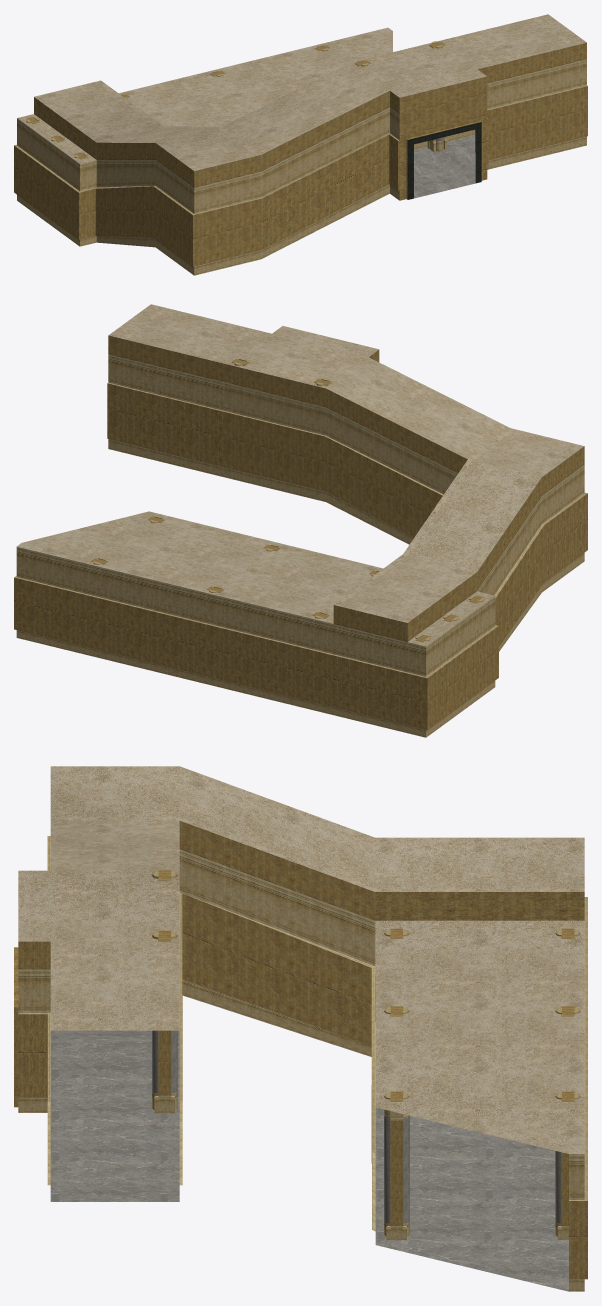
Rendered from thm_nboo_thed_hangar_r3_hall1_mesh_r3.fbx.
3 views of the same model, one above another, from view 1: azimuth 30°, elevation 25°; view 2: azimuth 150°, elevation 25°; view 3: azimuth 270°, elevation 25° (orthographic). The views are drawn at different scales.
Parts seen in each view (by area): view 1: mesh_node; view 2: mesh_node; view 3: mesh_node.
Boxes of the visible parts, x1=… form: mesh_node: x1=14, y1=14, x2=587, y2=275; mesh_node: x1=14, y1=304, x2=587, y2=737; mesh_node: x1=14, y1=766, x2=587, y2=1291.
Bounding box in the file's own units: 42.99 × 17.72 × 31.19.
